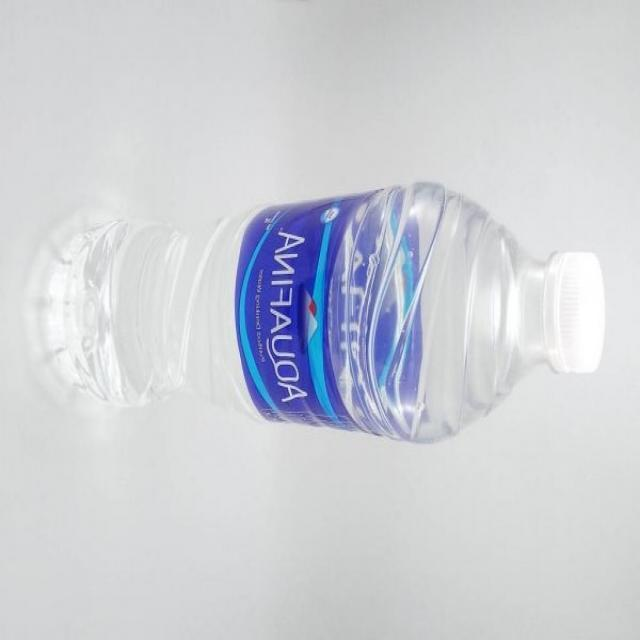plastic_bottle: (32, 183, 605, 444)
